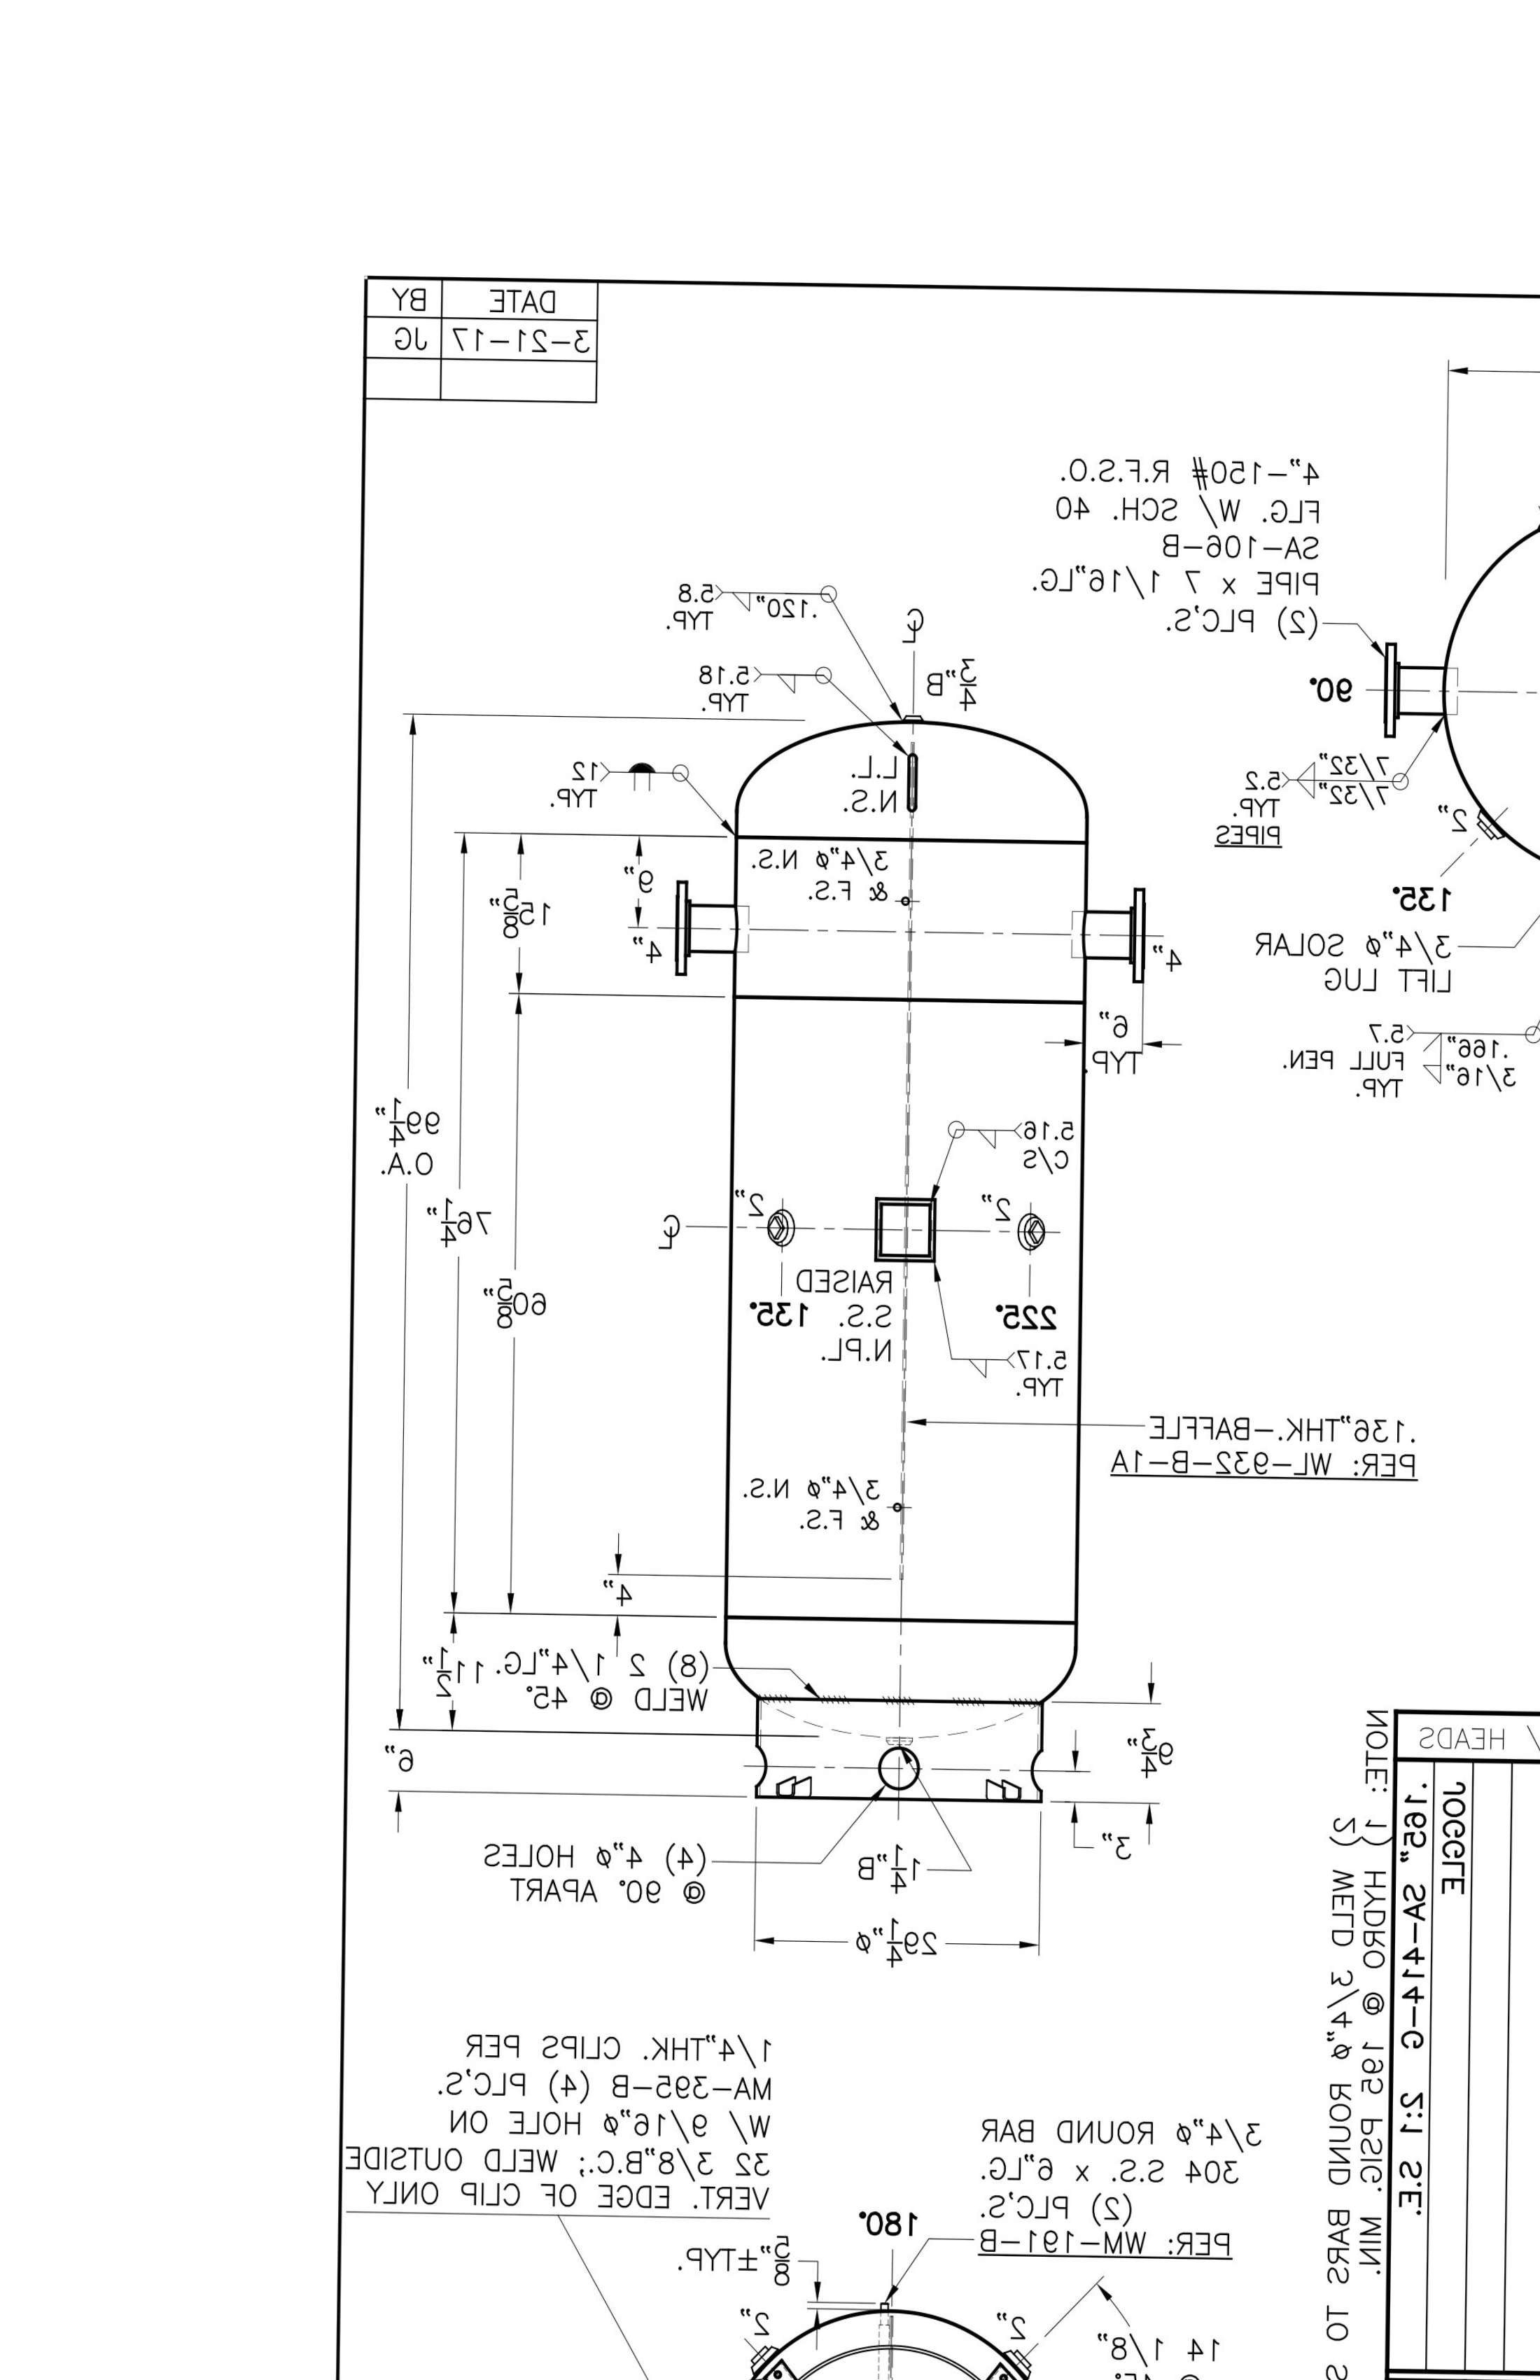Nozzle: (617, 841, 758, 1022), (1058, 866, 1195, 1006), (1363, 621, 1471, 762)
